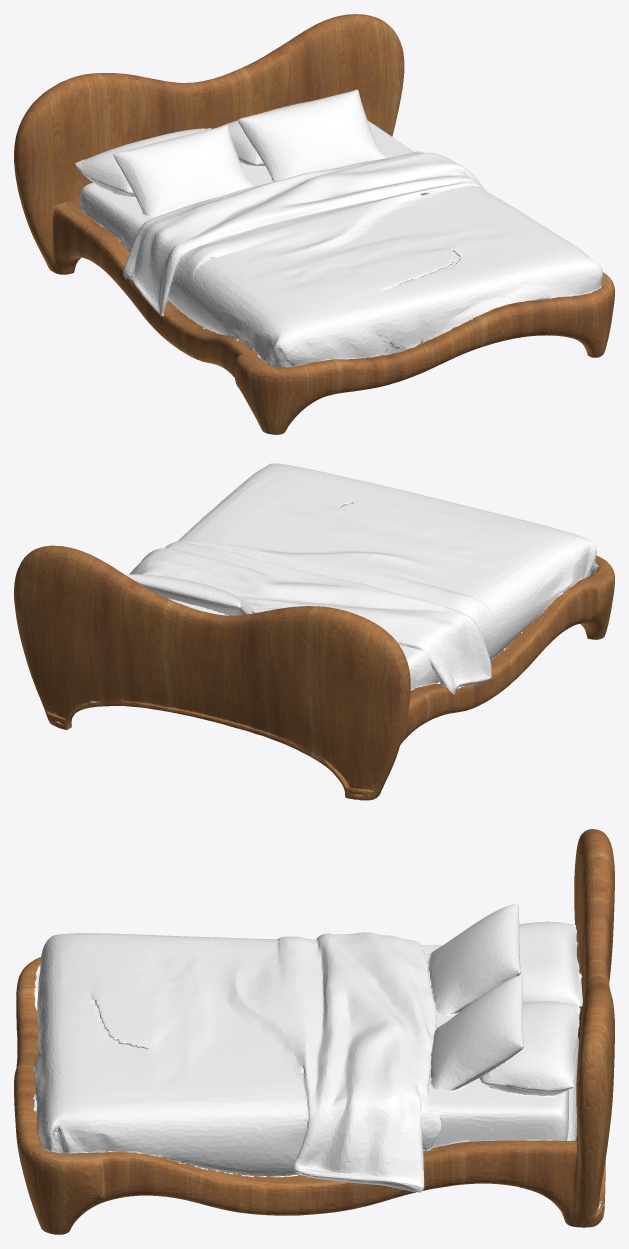
Rendered from WoodBaseBed.glb.
The picture shows the model from 3 angles, top to bottom: view 1: azimuth 30°, elevation 25°; view 2: azimuth 150°, elevation 25°; view 3: azimuth 270°, elevation 25°; orthographic projection. The views are drawn at different scales.
Visible parts, largest first — view 1: world; view 2: world; view 3: world.
Part boxes in pixels (bbox=[...]): world: bbox=[14, 14, 614, 434]; world: bbox=[14, 463, 614, 800]; world: bbox=[14, 829, 614, 1234].
Bounding box in the file's own units: 0.9008 × 0.4026 × 1.
2 materials, 2 textured.
